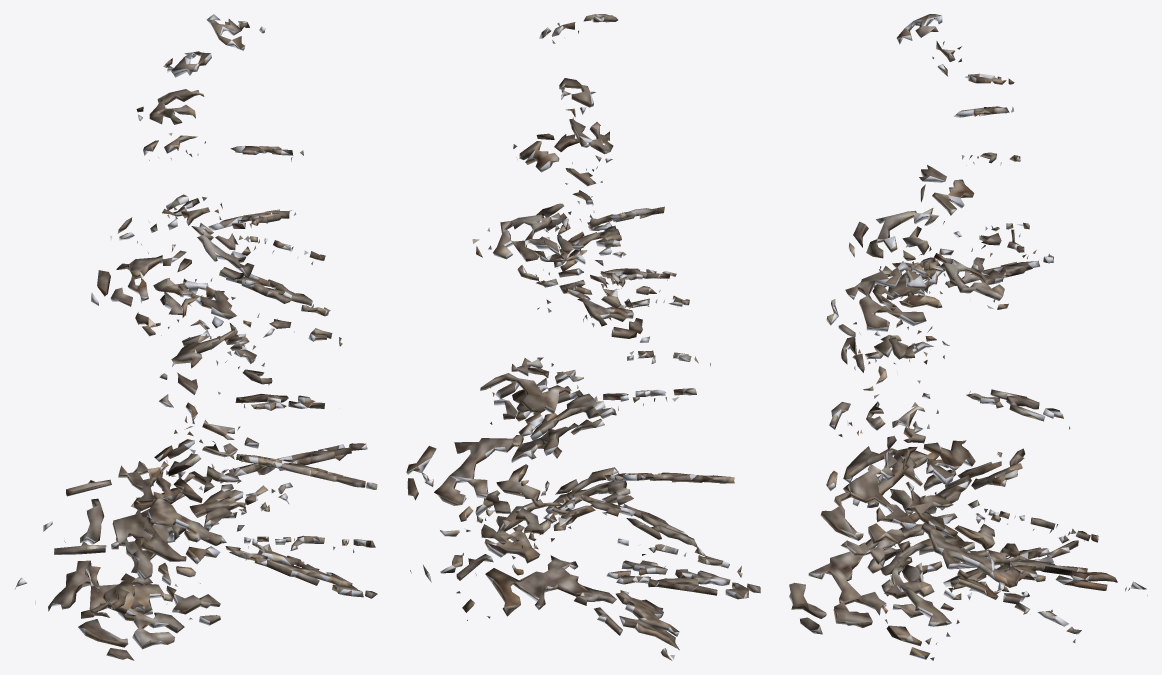
Rendered from CW_CardedAlpineFir_SnowCover_LOD1.fbx.
3 views of the same model, side by side, from view 1: azimuth 30°, elevation 25°; view 2: azimuth 150°, elevation 25°; view 3: azimuth 270°, elevation 25° (orthographic). The views are drawn at different scales.
Parts seen in each view (by area): view 1: CW_CardedAlpineFir_SnowCover_LOD1; view 2: CW_CardedAlpineFir_SnowCover_LOD1; view 3: CW_CardedAlpineFir_SnowCover_LOD1.
Part boxes in pixels (box(x1,y1,x2,y2)): CW_CardedAlpineFir_SnowCover_LOD1: box(15, 14, 377, 660); CW_CardedAlpineFir_SnowCover_LOD1: box(406, 14, 760, 660); CW_CardedAlpineFir_SnowCover_LOD1: box(789, 14, 1147, 660).
Size of the model in its own units: 3.8 by 6.9 by 3.7.
